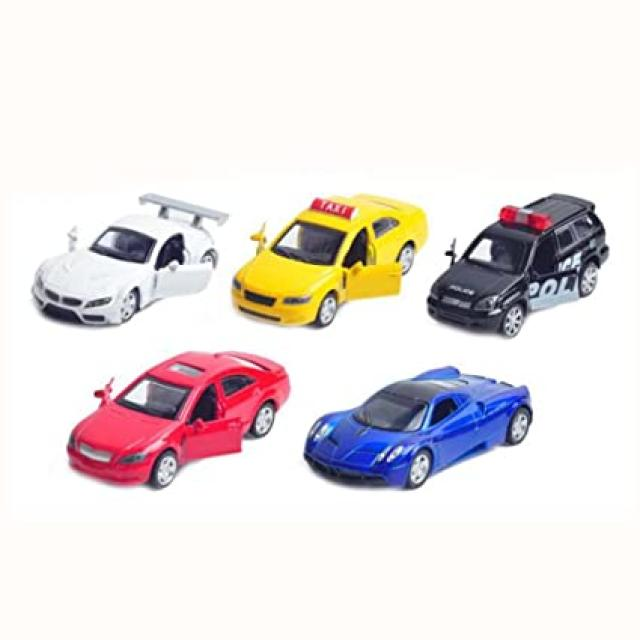Car: (64, 348, 290, 489), (303, 364, 533, 490), (229, 192, 428, 328), (30, 191, 229, 327), (426, 192, 608, 338)
